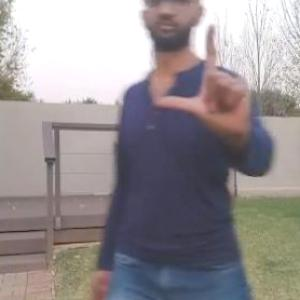land_hand: (149, 20, 254, 143)
